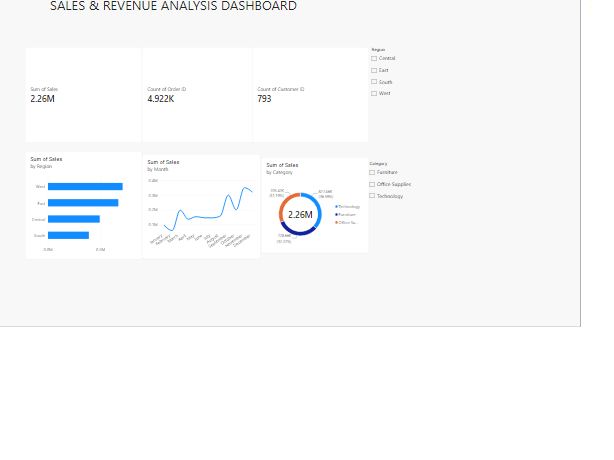

The page's visual inventory and layout, read from the dashboard file:
{"tool":"powerbi","page":{"name":"Page 1","canvas":[1920,1080],"ordinal":0},"visuals":[{"type":"cardVisual","fields":{"Data":["Sum(train.Sales)"]},"box":[107.8,166.5,382,313.5],"z":0},{"type":"cardVisual","fields":{"Data":["Count(train.Order ID)"]},"box":[490,167.5,370,312.5],"z":1000},{"type":"cardVisual","fields":{"Data":["Count(train.Customer ID)"]},"box":[847.5,165,382,313],"z":2000},{"type":"clusteredBarChart","fields":{"Category":["train.Region"],"Y":["Sum(train.Sales)"]},"box":[107.5,505,382.5,355],"z":3000},{"type":"lineChart","fields":{"Category":["train.Order Date.Variation.Date Hierarchy.Month"],"Y":["Sum(train.Sales)"]},"box":[490,517.5,387.5,342.5],"z":4000},{"type":"donutChart","fields":{"Category":["train.Category"],"Y":["Sum(train.Sales)"]},"box":[877.5,525,352.5,315],"z":5000},{"type":"slicer","fields":{"Values":["train.Region"]},"box":[1230,165,382.5,312.5],"z":6000},{"type":"slicer","fields":{"Values":["train.Category"]},"box":[1225,540,387.5,300],"z":7000},{"type":"textbox","box":[189.4,0,1655.5,91.4],"z":8000}]}

Visuals, with their boxes on the page's 1920x1080 design canvas (x1, y1, x2, y2). These are canvas units, not pixel positions in the 614x460 screenshot, which may show the page scaled, cropped or inside an application window:
cardVisual - Sum(train.Sales): 108/166/490/480
cardVisual - Count(train.Order ID): 490/168/860/480
cardVisual - Count(train.Customer ID): 848/165/1230/478
clusteredBarChart - train.Region x Sum(train.Sales): 108/505/490/860
lineChart - train.Order Date.Variation.Date Hierarchy.Month x Sum(train.Sales): 490/518/878/860
donutChart - train.Category x Sum(train.Sales): 878/525/1230/840
slicer - train.Region: 1230/165/1612/478
slicer - train.Category: 1225/540/1612/840
textbox: 189/0/1845/91
